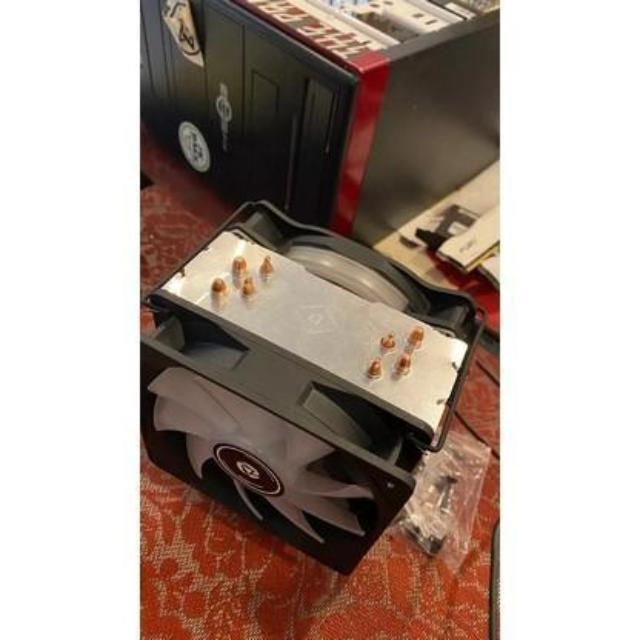CPU_Fan: (139, 202, 487, 578)
